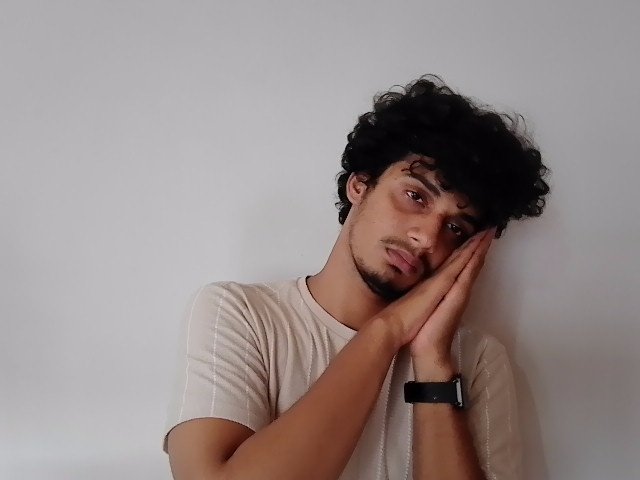sleep: (369, 223, 500, 355)
